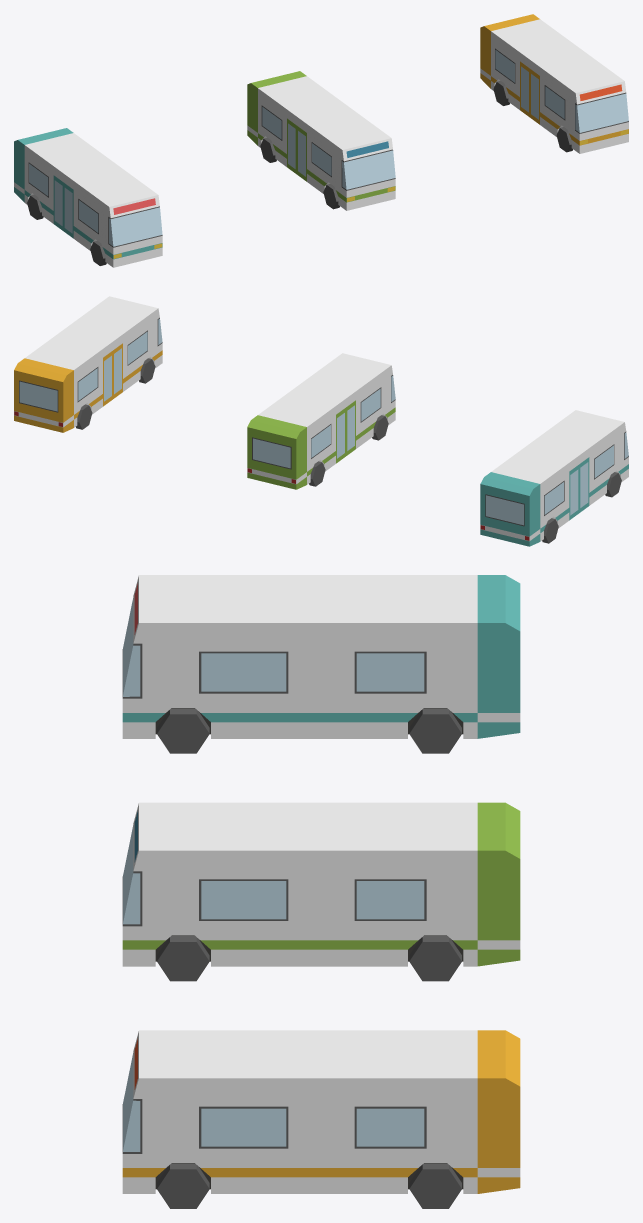
File: Bus.fbx
3 views of the same model, one above another, from view 1: azimuth 30°, elevation 25°; view 2: azimuth 150°, elevation 25°; view 3: azimuth 270°, elevation 25° (orthographic). The views are drawn at different scales.
Visible parts, largest first — view 1: Bus_3, Bus_2, Bus_1; view 2: Bus_1, Bus_2, Bus_3; view 3: Bus_2, Bus_3, Bus_1.
Boxes of the visible parts, x1=… form: Bus_3: x1=480, y1=14, x2=628, y2=153; Bus_2: x1=247, y1=71, x2=395, y2=210; Bus_1: x1=14, y1=128, x2=162, y2=267; Bus_1: x1=480, y1=410, x2=628, y2=546; Bus_2: x1=247, y1=353, x2=395, y2=489; Bus_3: x1=14, y1=296, x2=162, y2=432; Bus_2: x1=122, y1=802, x2=520, y2=981; Bus_3: x1=122, y1=1030, x2=520, y2=1208; Bus_1: x1=122, y1=575, x2=520, y2=753.
Bounding box in the file's own units: 33.36 × 3.97 × 11.08.
1 material, 1 textured.
